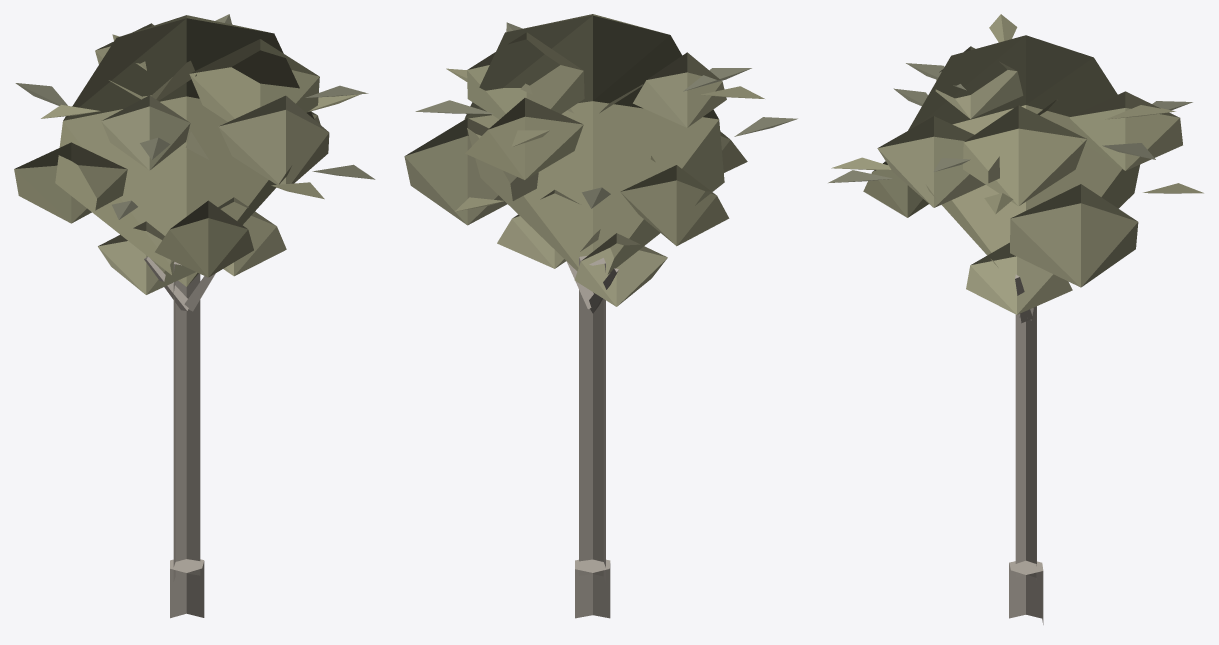
File: shu.baigan@subadult__winter.glb
The picture shows the model from 3 angles, left to right: view 1: azimuth 30°, elevation 25°; view 2: azimuth 150°, elevation 25°; view 3: azimuth 270°, elevation 25°; orthographic projection. The views are drawn at different scales.
Visible parts, largest first — view 1: shu.baigan@subadult__winter; view 2: shu.baigan@subadult__winter; view 3: shu.baigan@subadult__winter.
Boxes of the visible parts, x1,y1,x2,y2 form: shu.baigan@subadult__winter: (14, 14, 375, 618); shu.baigan@subadult__winter: (404, 14, 797, 618); shu.baigan@subadult__winter: (828, 14, 1203, 624).
Size of the model in its own units: 4.61 by 8.31 by 4.84.
